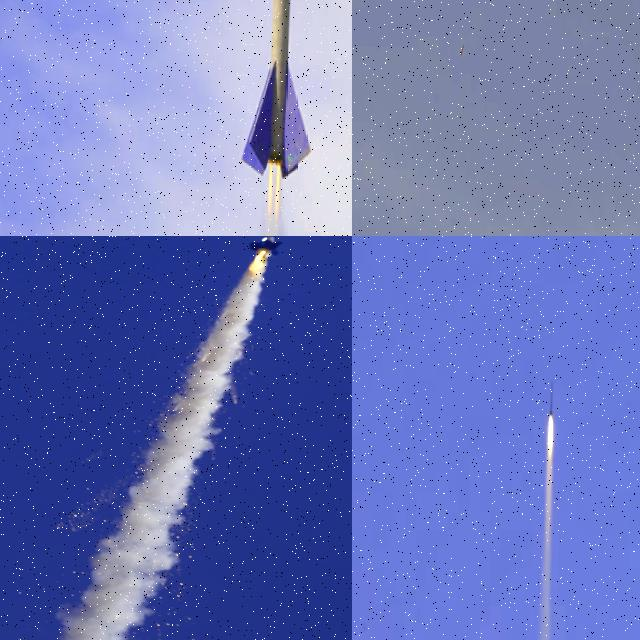Rocket: (239, 0, 313, 183), (249, 236, 286, 256), (549, 381, 553, 415), (460, 44, 464, 55)
